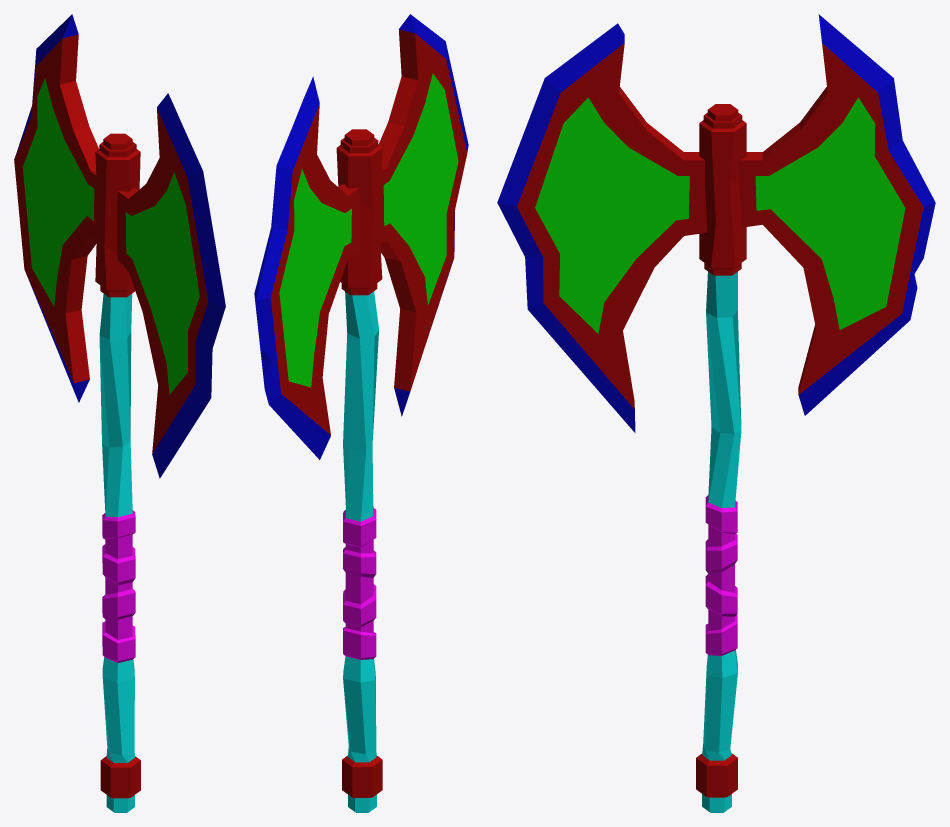
File: Axe_Uncommon_Executioners.fbx
3 views of the same model, side by side, from view 1: azimuth 30°, elevation 25°; view 2: azimuth 150°, elevation 25°; view 3: azimuth 270°, elevation 25° (orthographic). The views are drawn at different scales.
Parts seen in each view (by area): view 1: SM_Wep_Axe_06; view 2: SM_Wep_Axe_06; view 3: SM_Wep_Axe_06.
Boxes of the visible parts, bbox=[...] form: SM_Wep_Axe_06: bbox=[14, 14, 225, 812]; SM_Wep_Axe_06: bbox=[254, 14, 468, 812]; SM_Wep_Axe_06: bbox=[497, 14, 935, 812].
Bounding box in the file's own units: 6.69 × 143 × 71.56.
